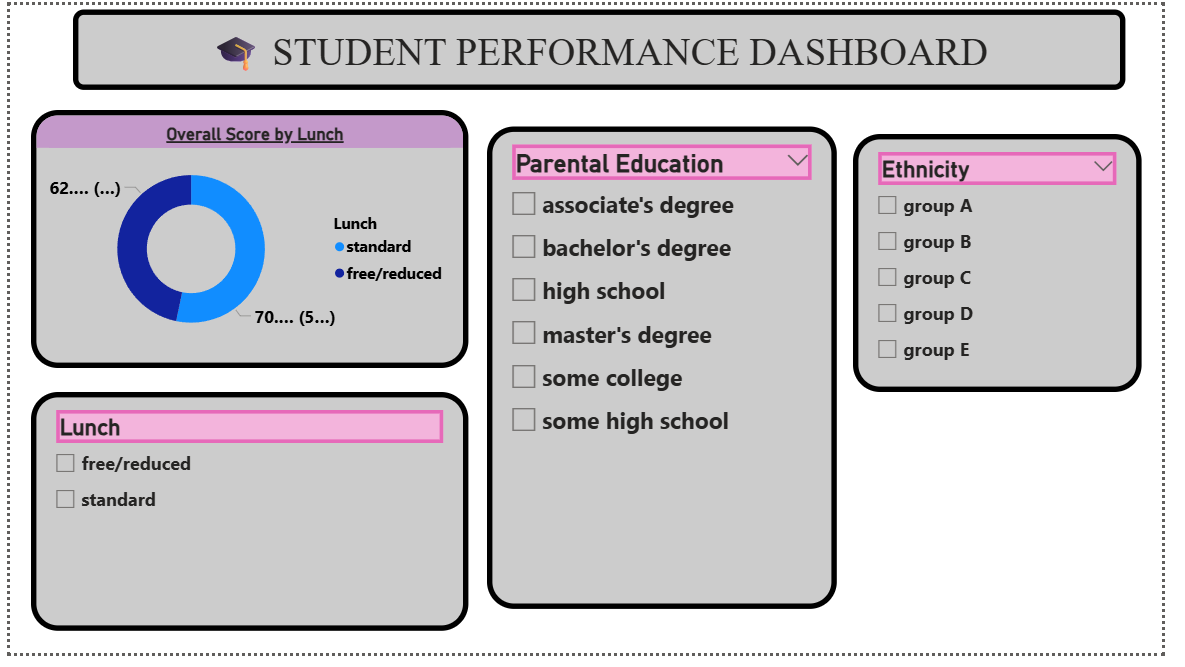

The dashboard page shown, as its layout file describes it:
{"tool":"powerbi","page":{"name":"Page 2","canvas":[1280,720],"ordinal":1},"visuals":[{"type":"donutChart","title":"Overall Score by Lunch","fields":{"Category":["Sheet1.Lunch"],"Y":["Avg(Sheet1.Average Score)"]},"box":[22.7,116.6,485.8,286.6],"z":1000},{"type":"slicer","fields":{"Values":["Sheet1.Parental Education"]},"box":[529.5,134.4,388.6,536],"z":2000},{"type":"slicer","fields":{"Values":["Sheet1.Lunch"]},"box":[22.7,430.7,485.8,265.6],"z":3000},{"type":"slicer","fields":{"Values":["Sheet1.Ethnicity"]},"box":[935.9,144.1,320.6,286.6],"z":4000},{"type":"textbox","box":[69.6,4.9,1169.1,89.1],"z":5000}]}

Visuals, with their boxes in screenshot pixels (x1, y1, x2, y2), scaled from the page's 1280x720 canvas onto the 1185x667 screenshot:
"Overall Score by Lunch" donutChart: bbox=(21, 108, 471, 374)
slicer - Sheet1.Parental Education: bbox=(490, 125, 850, 621)
slicer - Sheet1.Lunch: bbox=(21, 399, 471, 645)
slicer - Sheet1.Ethnicity: bbox=(866, 133, 1163, 399)
textbox: bbox=(64, 5, 1147, 87)
